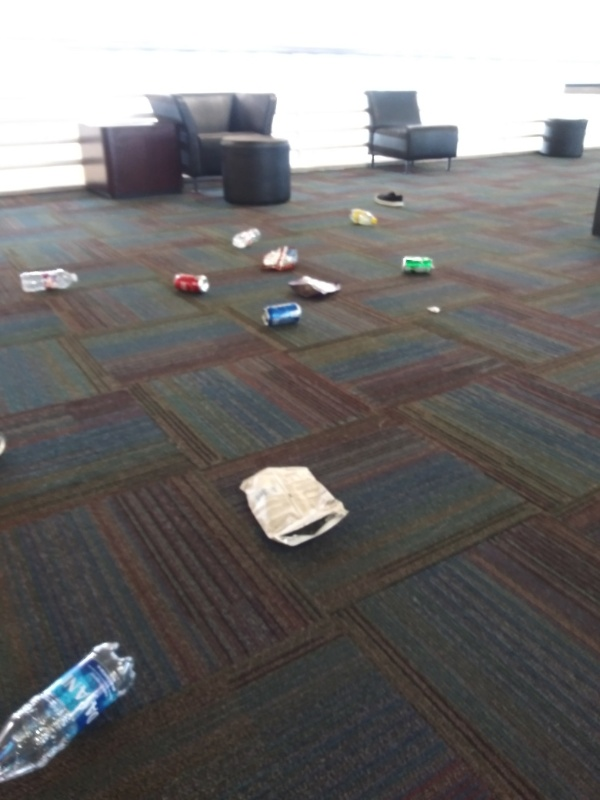bag: (236, 460, 355, 554), (285, 270, 349, 301), (258, 243, 304, 273)
bottle: (1, 633, 138, 787), (19, 266, 81, 301), (346, 204, 381, 230), (230, 225, 265, 250)
can: (257, 301, 308, 331), (170, 270, 212, 299), (396, 252, 438, 280)
